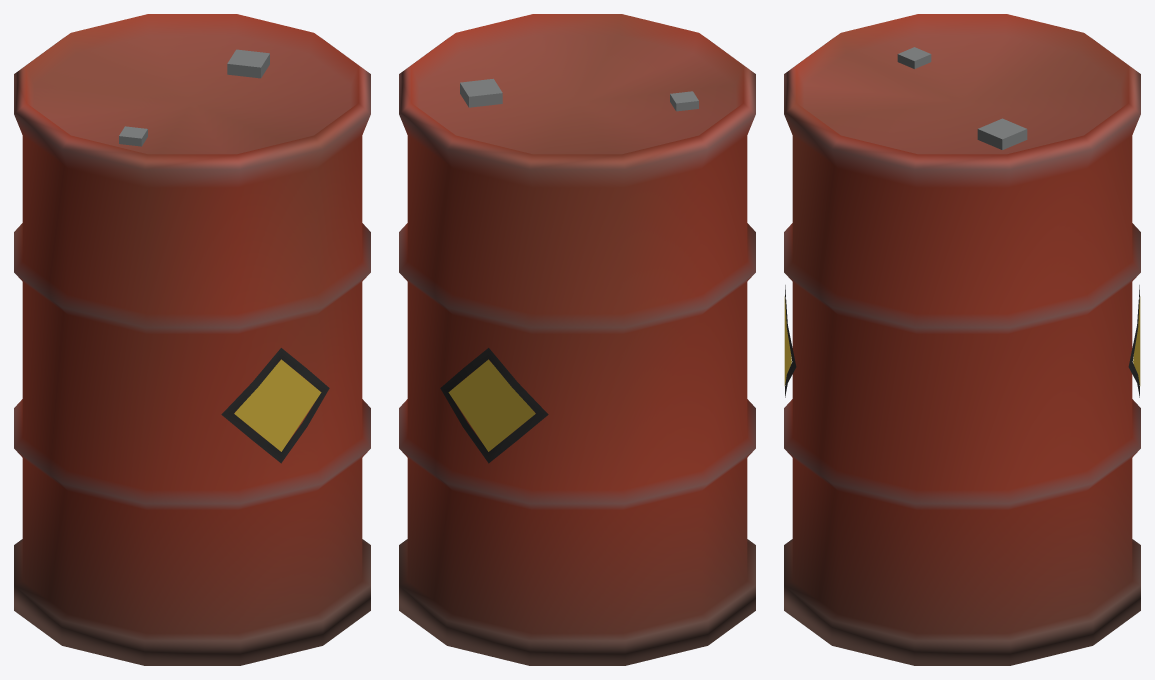
The model's file is barrel.glb.
3 views of the same model, side by side, from view 1: azimuth 30°, elevation 25°; view 2: azimuth 150°, elevation 25°; view 3: azimuth 270°, elevation 25° (orthographic).
Visible parts, largest first — view 1: Drum shell.001, Bungs.001; view 2: Drum shell.001, Bungs.001; view 3: Drum shell.001, Bungs.001.
Boxes of the visible parts, x1,y1,x2,y2 form: Drum shell.001: (14,14,370,665); Bungs.001: (119,49,269,146); Drum shell.001: (399,14,755,665); Bungs.001: (460,78,698,111); Drum shell.001: (784,14,1140,665); Bungs.001: (897,47,1027,149).
Size of the model in its own units: 0.8925 by 1.4 by 0.8925.
